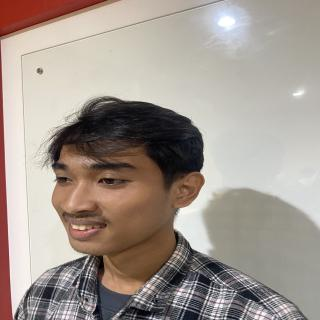Senang: (46, 135, 192, 263)
